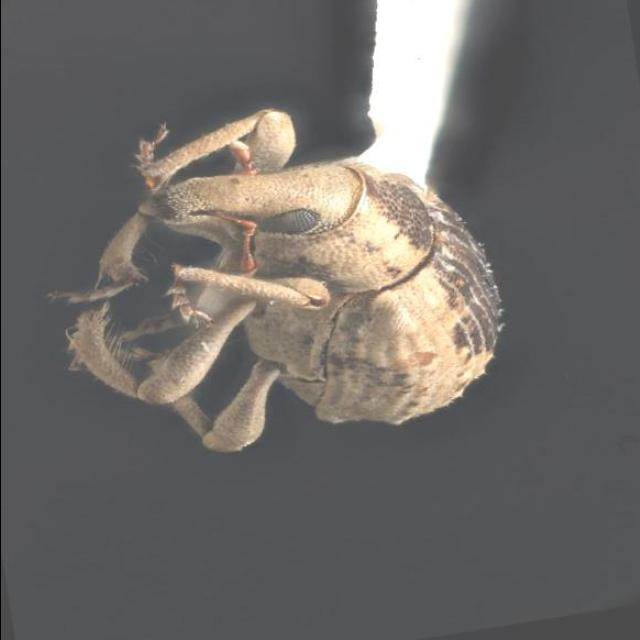ricebug: (49, 109, 500, 451)
